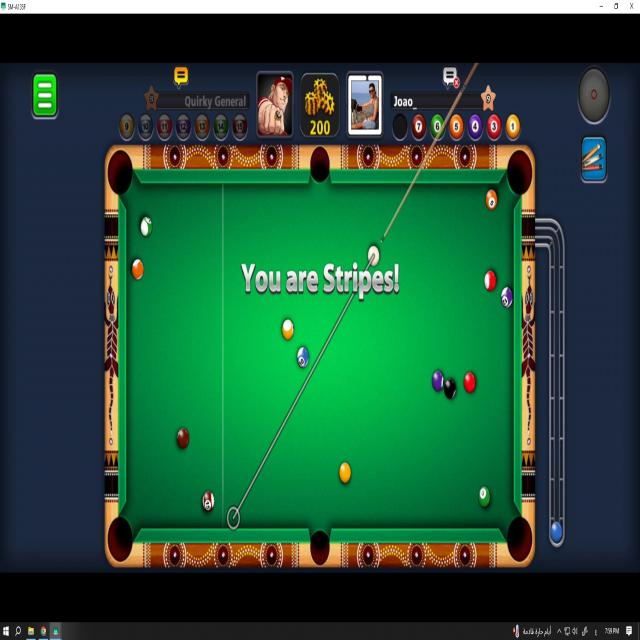object_ball: (177, 428, 189, 449), (444, 378, 456, 399), (501, 287, 512, 308), (282, 319, 293, 340), (132, 259, 143, 280), (486, 190, 497, 210), (203, 491, 214, 511), (141, 217, 152, 237), (432, 371, 443, 391), (297, 347, 308, 367), (339, 463, 350, 483), (464, 373, 475, 393), (485, 271, 496, 291), (479, 487, 489, 507)
white_cue_ball: (368, 246, 379, 266)
